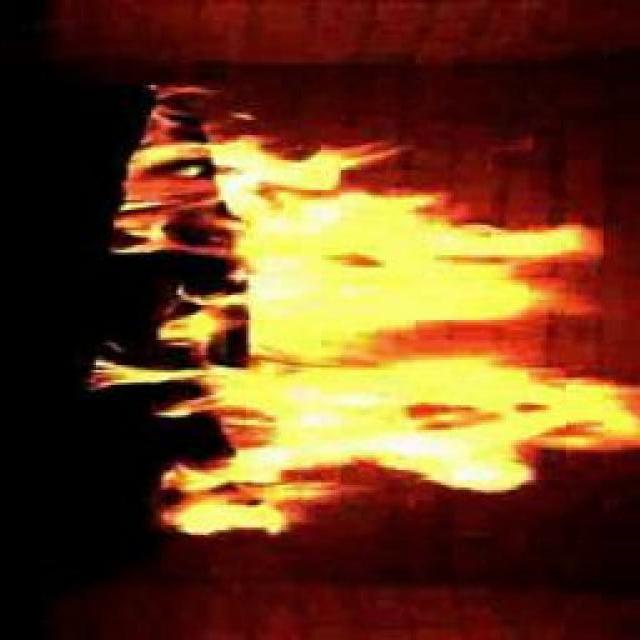Fire: (210, 141, 620, 517)
